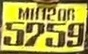character: (3, 21, 25, 46), (45, 22, 66, 48), (25, 21, 45, 47), (67, 22, 84, 47)
